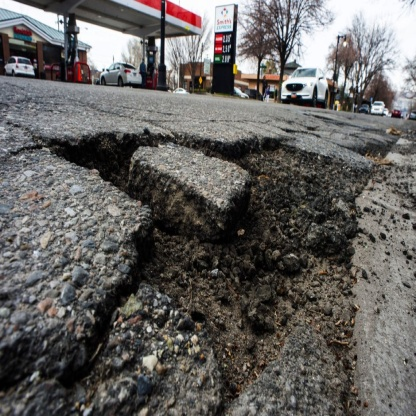pothole: (17, 104, 401, 399)
